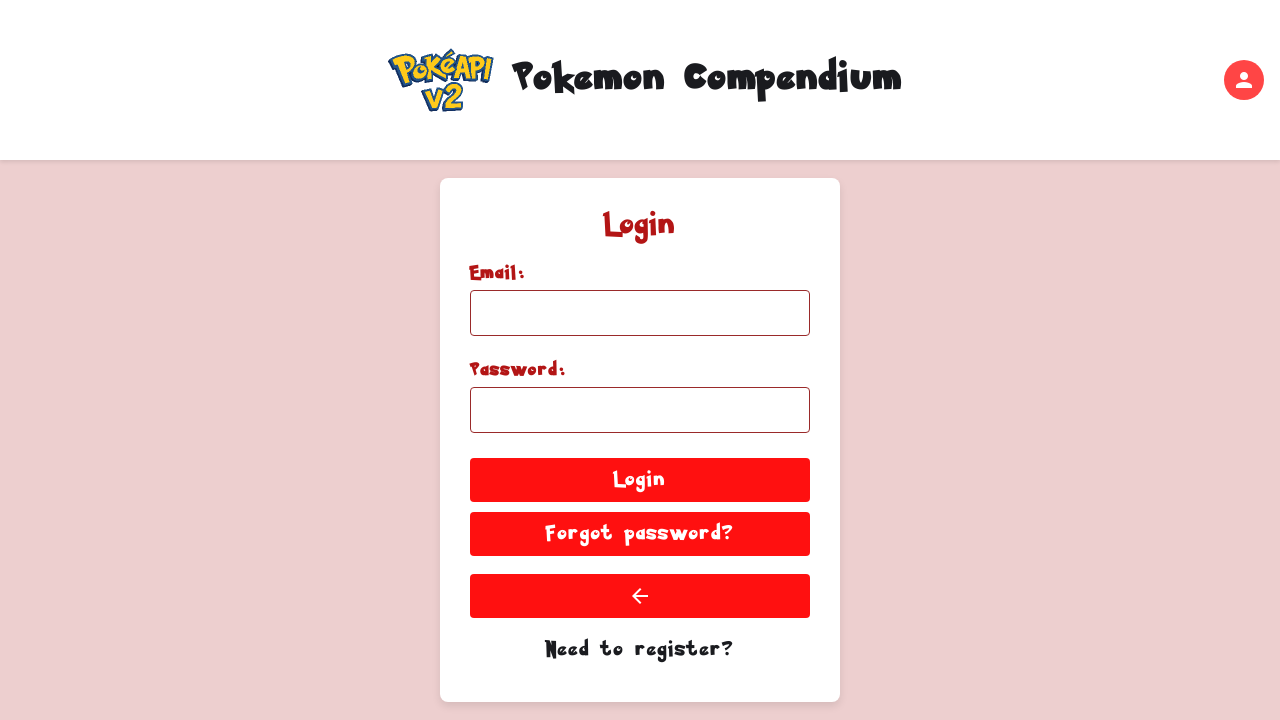
Scenario: authentication-form-tests › should correctly transition between login and auth state
Expected: the text with test id "auth-toggle-login-text" reads "Need to register?", [546,639,734,661]
Click the button with test id "auth-toggle-login-register-button" at (640, 650), box [470,638,810,662]
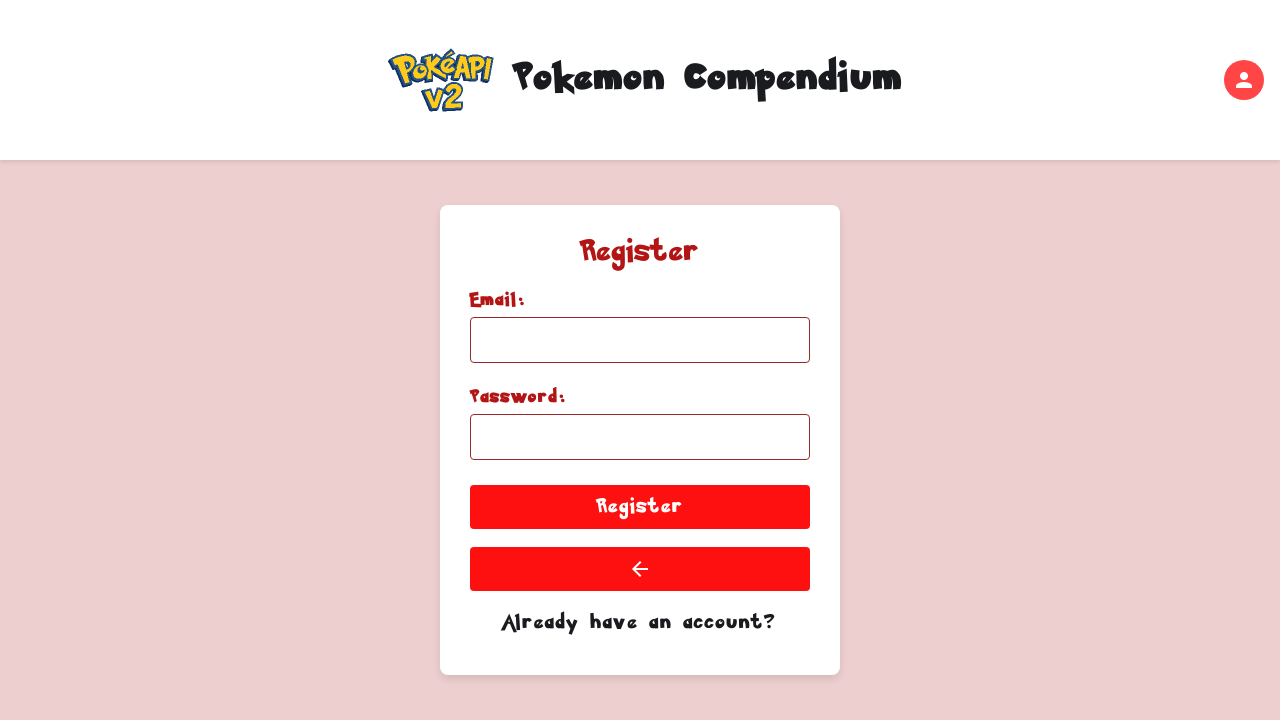
Result: the text with test id "auth-toggle-login-text" reads "Already have an account?" at [504,612,776,634]
Click the button with test id "auth-toggle-login-register-button" at (640, 623), box [470,611,810,635]
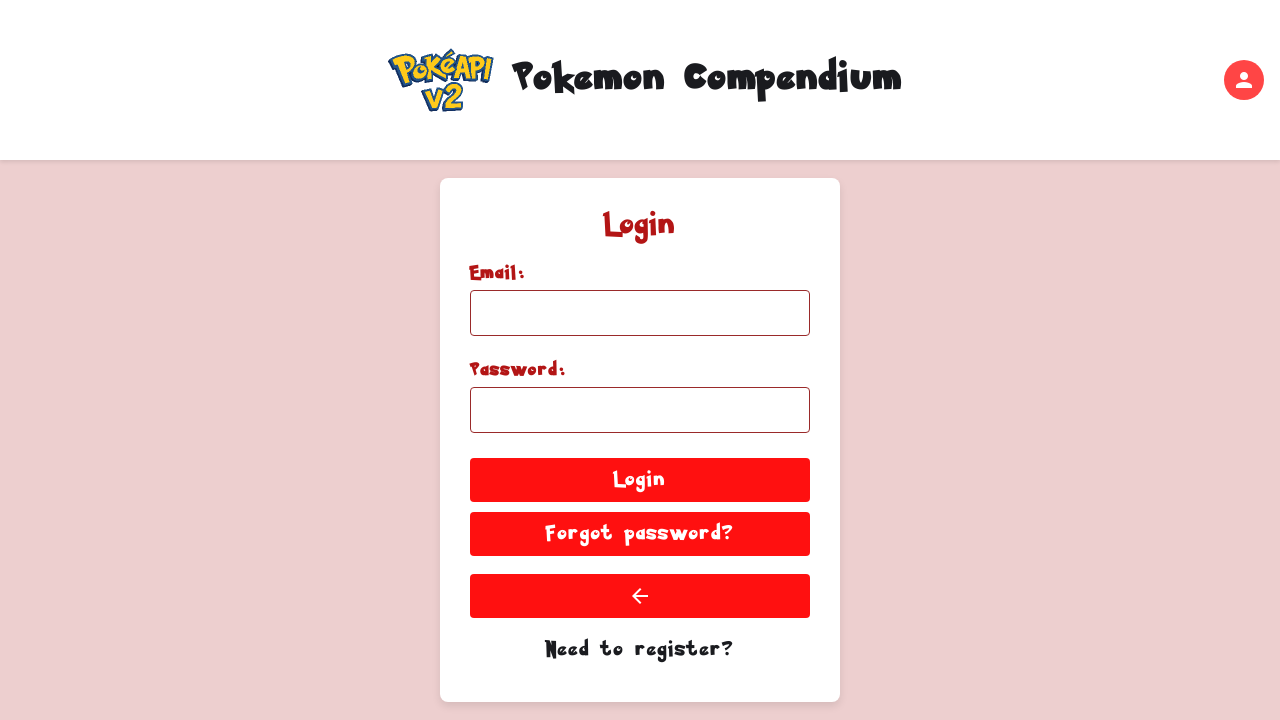
Result: the text with test id "auth-toggle-login-text" reads "Need to register?" at [546,639,734,661]
